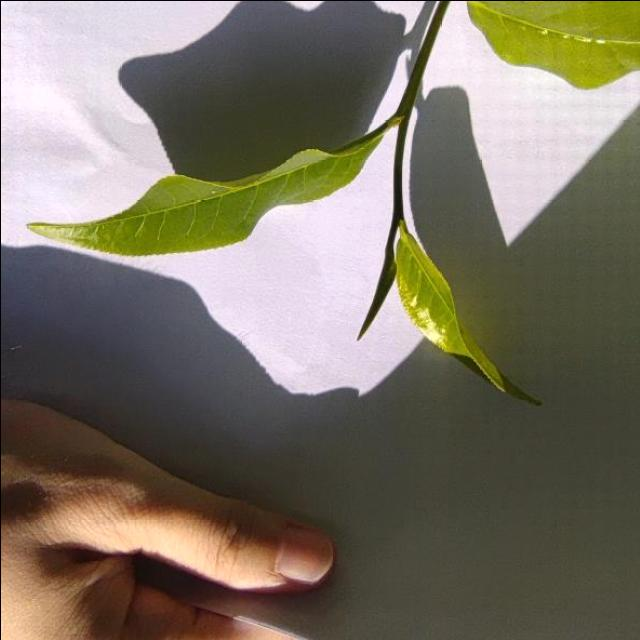Stem: (391, 206, 403, 221)
